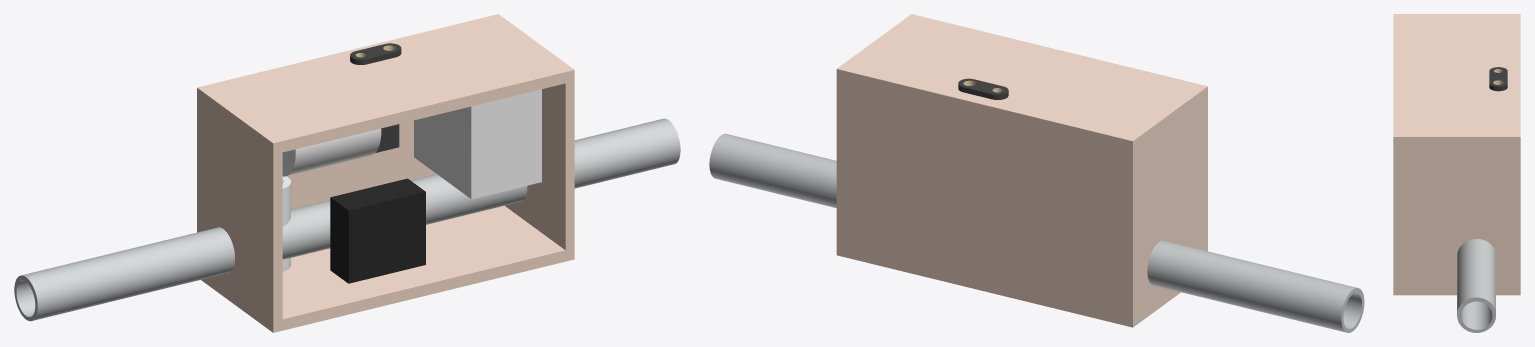
The model's file is pipe line.glb.
The picture shows the model from 3 angles, left to right: view 1: azimuth 30°, elevation 25°; view 2: azimuth 150°, elevation 25°; view 3: azimuth 270°, elevation 25°; orthographic projection. The views are drawn at different scales.
Visible parts, largest first — view 1: pipe_line; view 2: pipe_line; view 3: pipe_line.
Part boxes in pixels (x1,y1,x2,y2): pipe_line: (14, 14, 680, 332); pipe_line: (709, 14, 1364, 332); pipe_line: (1393, 14, 1520, 332).
Size of the model in its own units: 0.632 by 0.1831 by 0.13.
